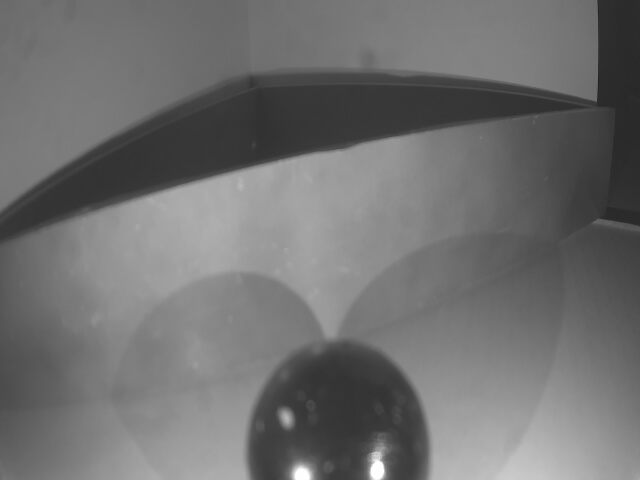Dead: (245, 335, 437, 480)
Green: (0, 109, 617, 432)
